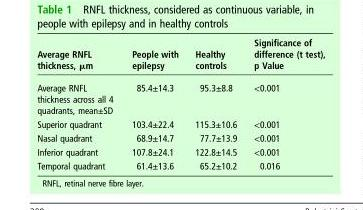table: (36, 36, 324, 170)
table column: (36, 36, 121, 170), (244, 36, 324, 170), (121, 36, 186, 170), (186, 36, 244, 170)
table column header: (36, 36, 324, 76)
table row: (36, 36, 324, 76), (36, 76, 324, 116), (36, 116, 324, 130), (36, 130, 324, 144), (36, 144, 324, 158), (36, 158, 324, 170)
